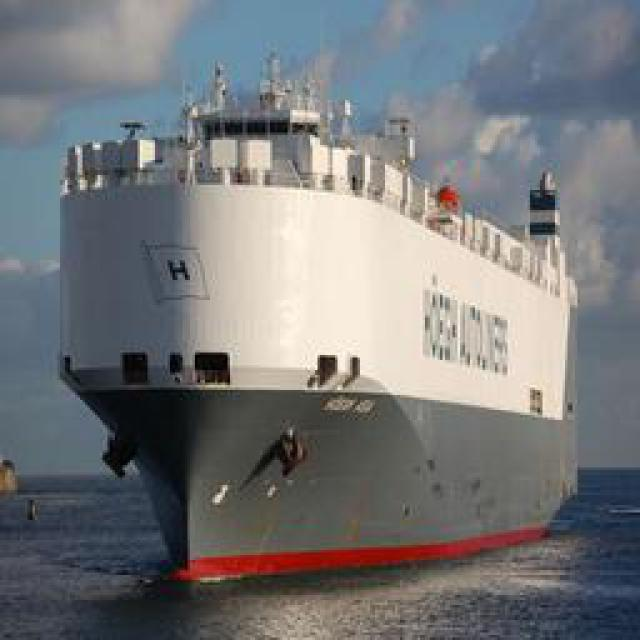Ship: (48, 35, 601, 596)
